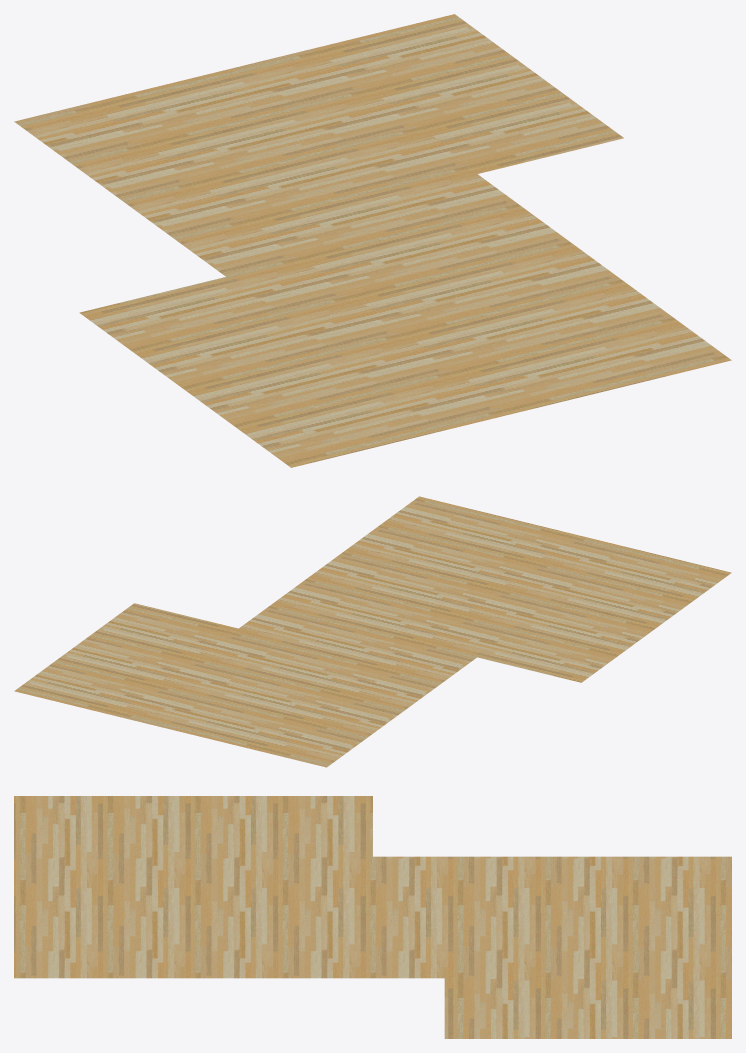
The model's file is floors.gltf.
3 views of the same model, one above another, from view 1: azimuth 30°, elevation 25°; view 2: azimuth 150°, elevation 25°; view 3: azimuth 270°, elevation 25° (orthographic). The views are drawn at different scales.
Visible parts, largest first — view 1: root; view 2: root; view 3: root.
Boxes of the visible parts, x1,y1,x2,y2 form: root: (14, 14, 731, 467); root: (14, 496, 731, 767); root: (14, 796, 731, 1038).
Bounding box in the file's own units: 8 × 6.12e-16 × 10.
1 material, 1 textured.
